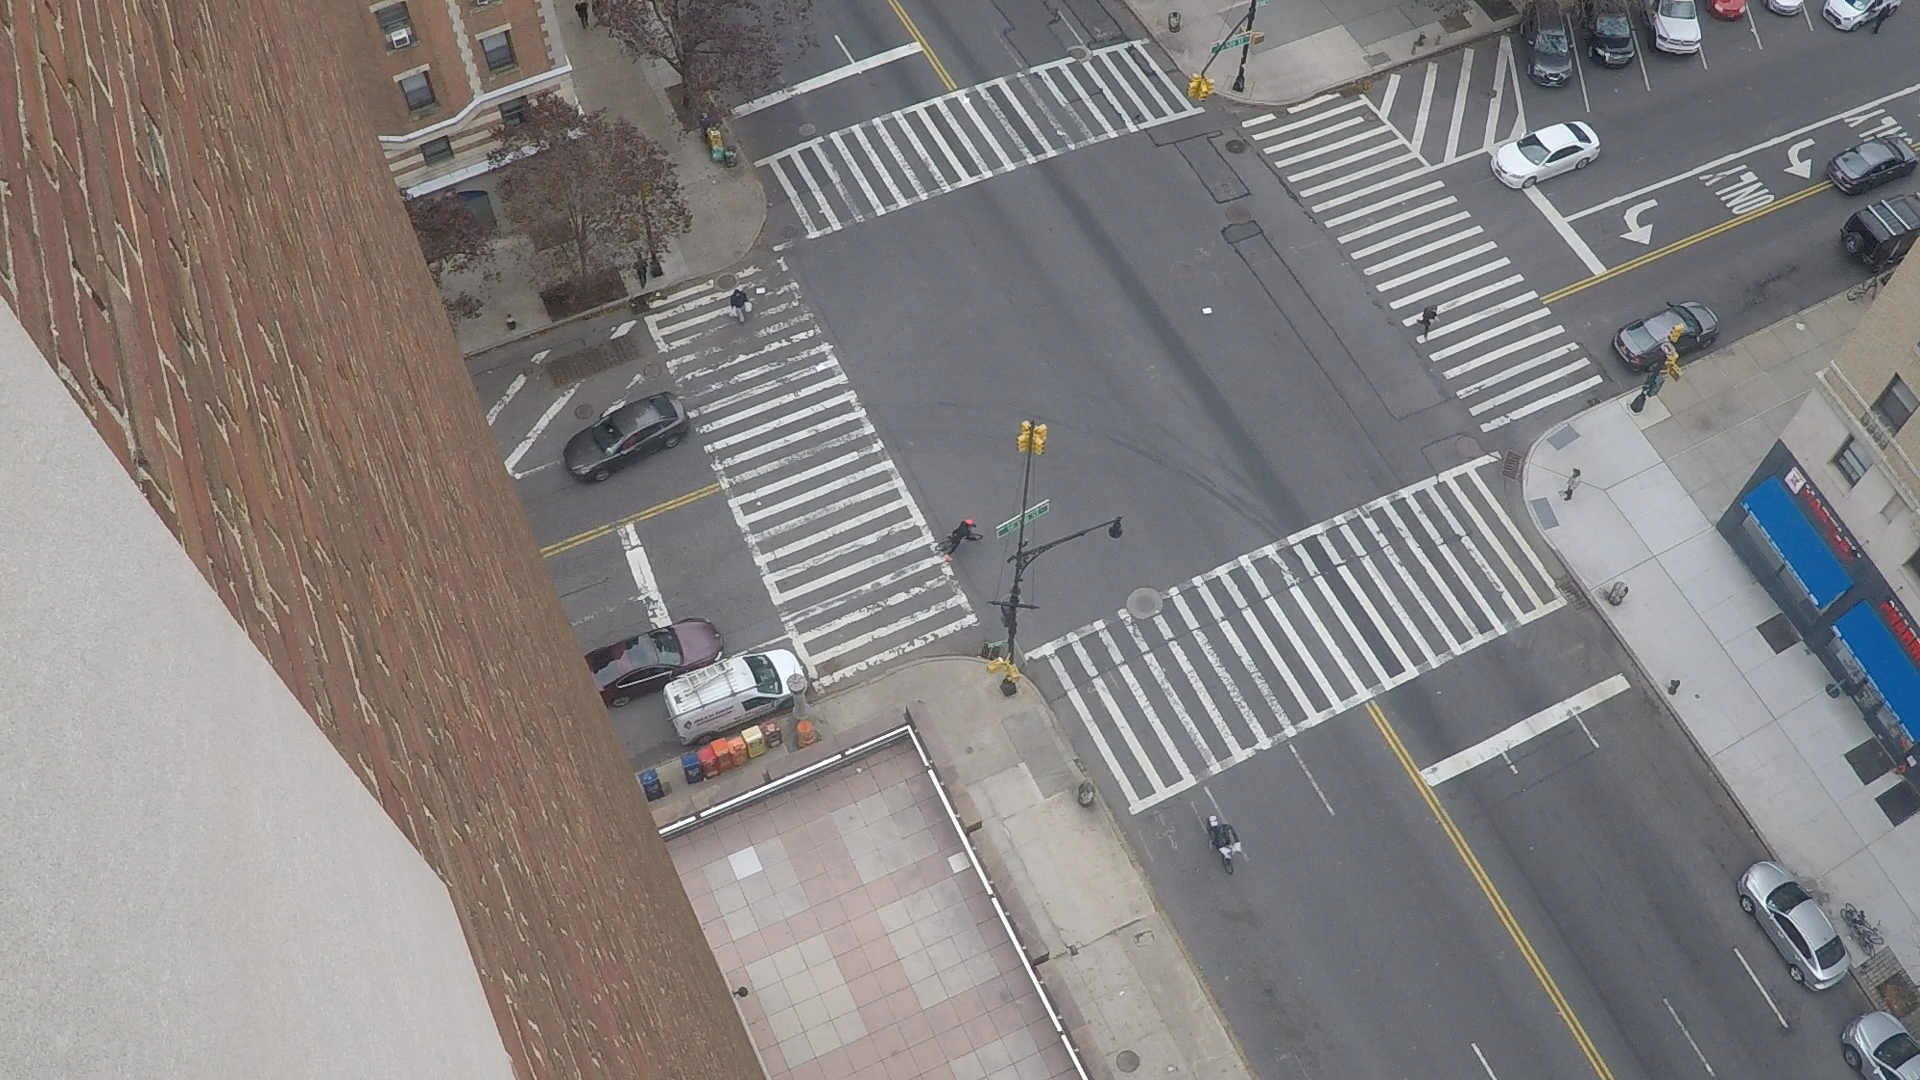Car: (1642, 1, 1652, 38), (1916, 191, 1919, 209), (1526, 48, 1527, 64)
Pedestrian: (737, 285, 741, 289)
